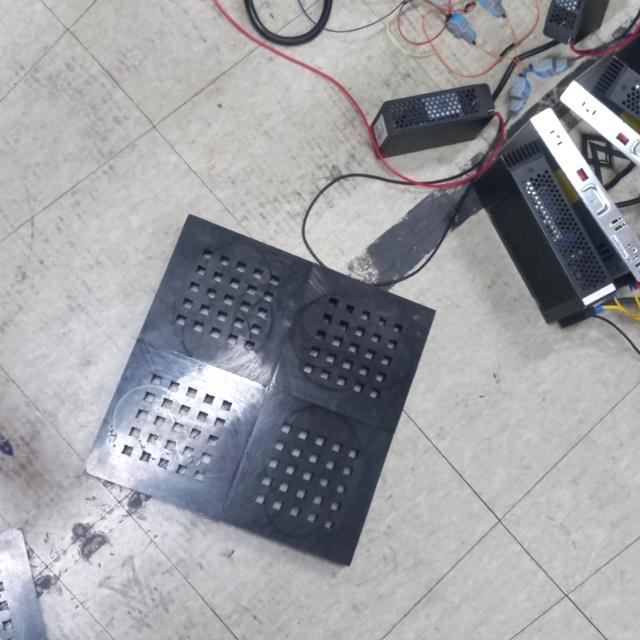pallet: (77, 201, 444, 571)
